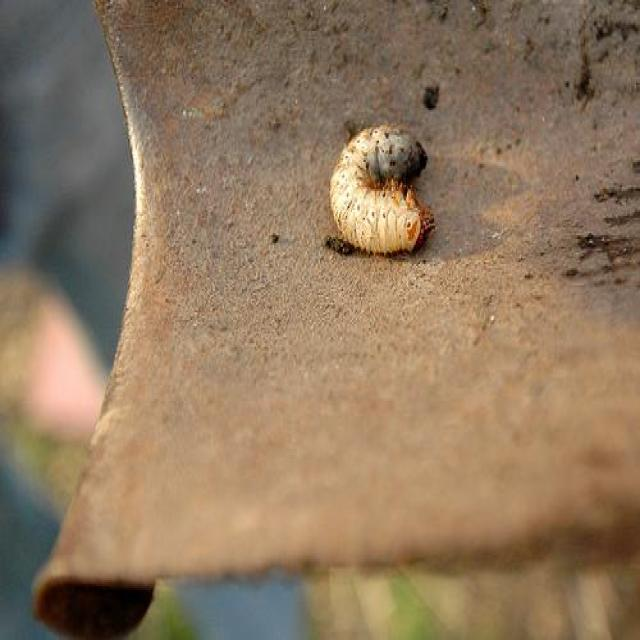Grub-Adult-: (319, 113, 443, 271)
